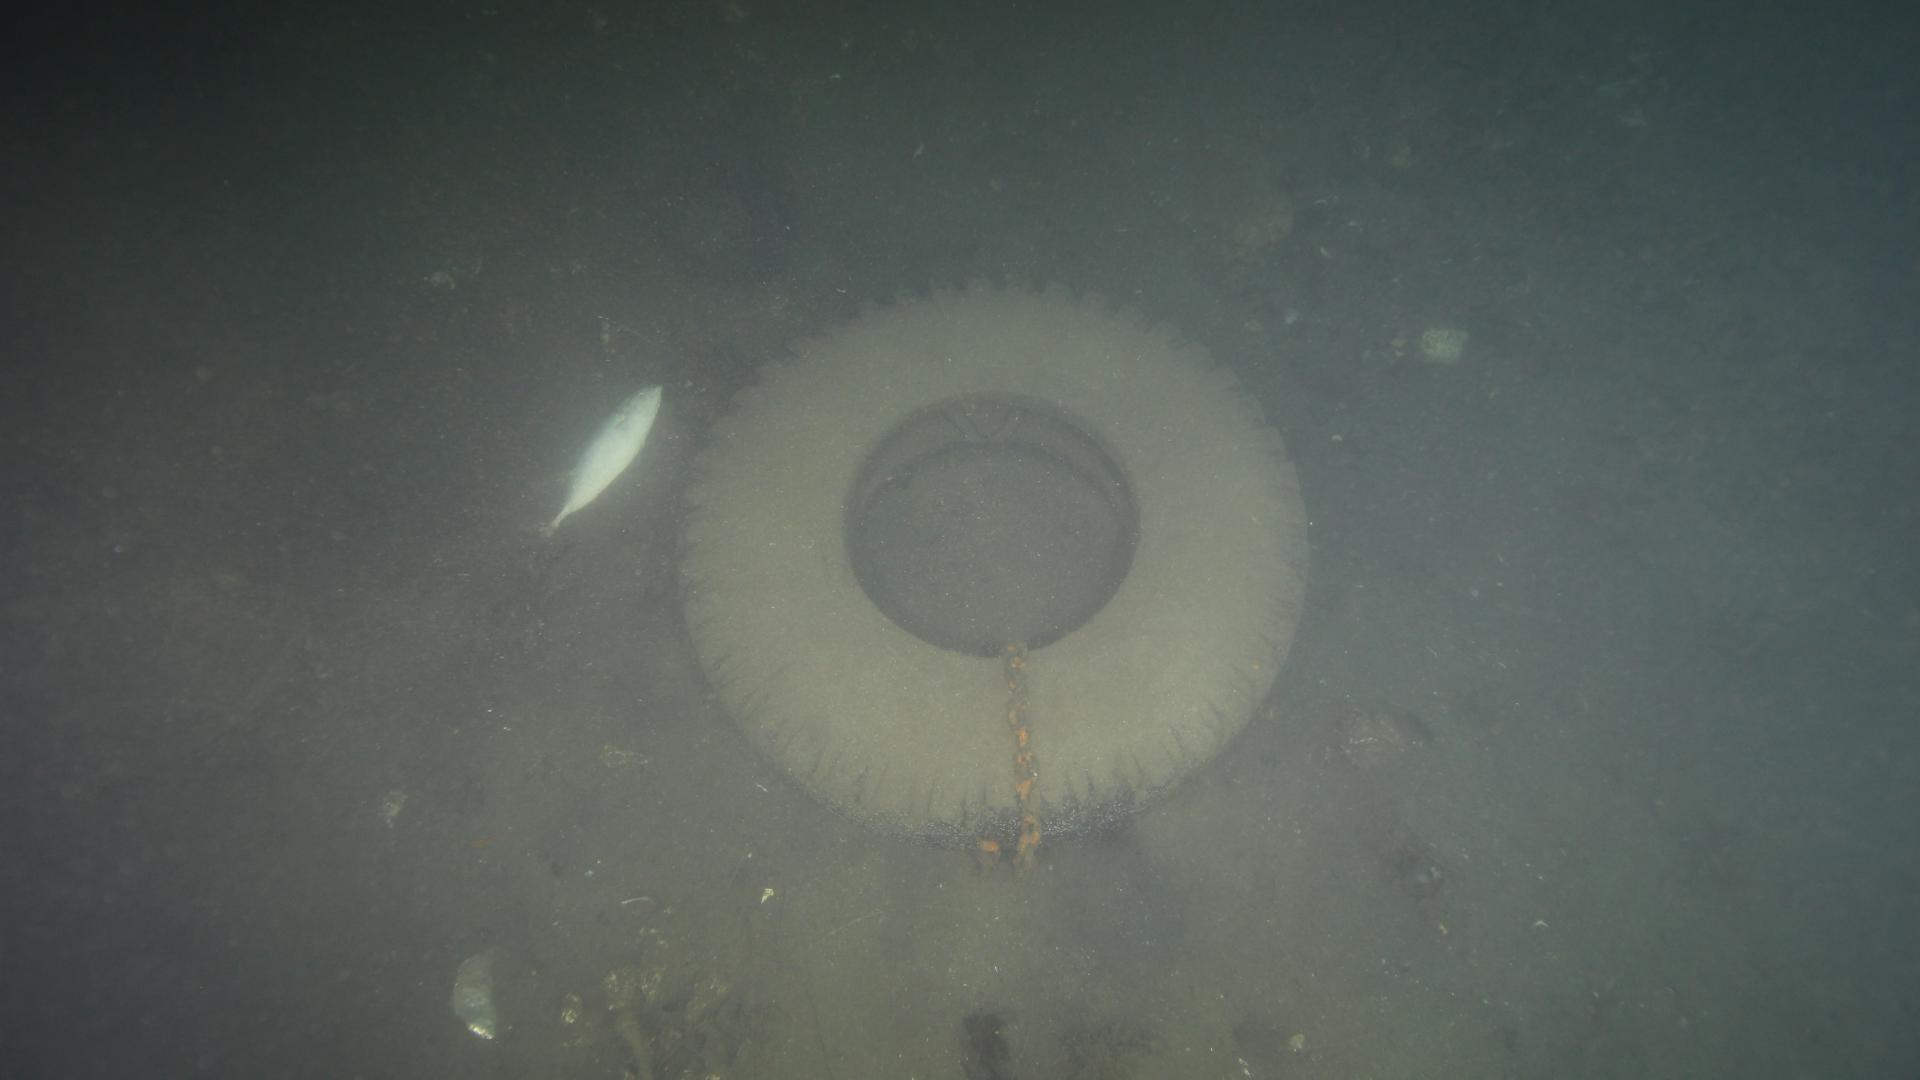tire: (675, 276, 1317, 848)
